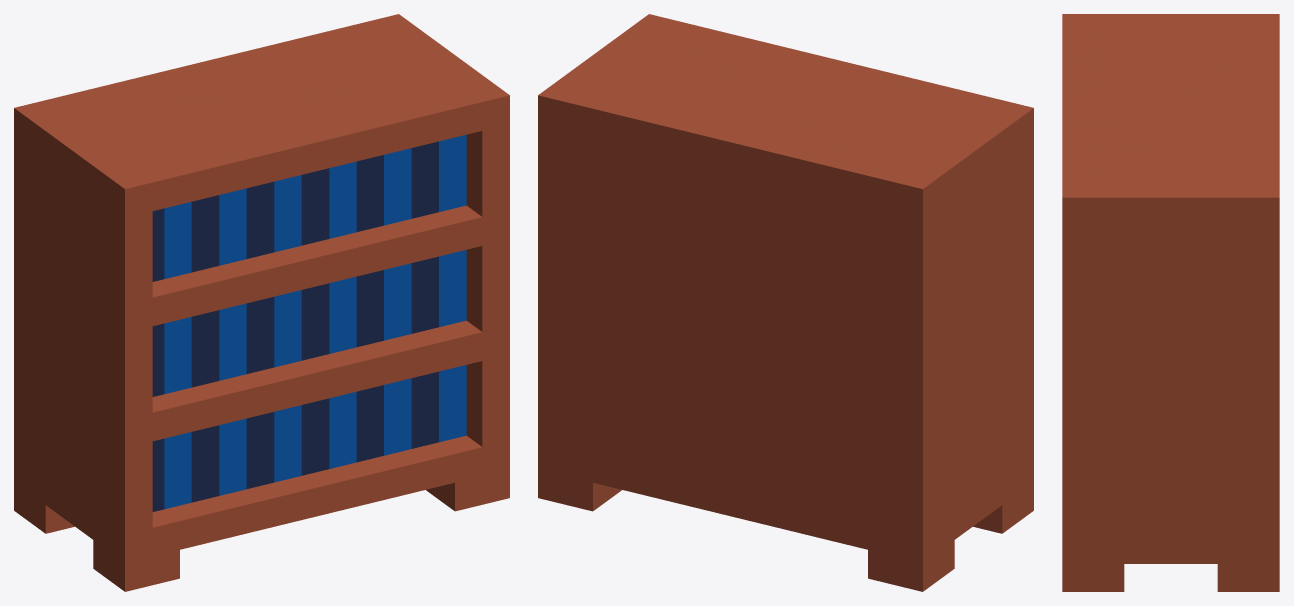
File: large_bookcase_a_blue.obj
The picture shows the model from 3 angles, left to right: view 1: azimuth 30°, elevation 25°; view 2: azimuth 150°, elevation 25°; view 3: azimuth 270°, elevation 25°; orthographic projection. The views are drawn at different scales.
Size of the model in its own units: 1.4 by 1.4 by 0.7.
Materials: 1 (1 with a texture image).
